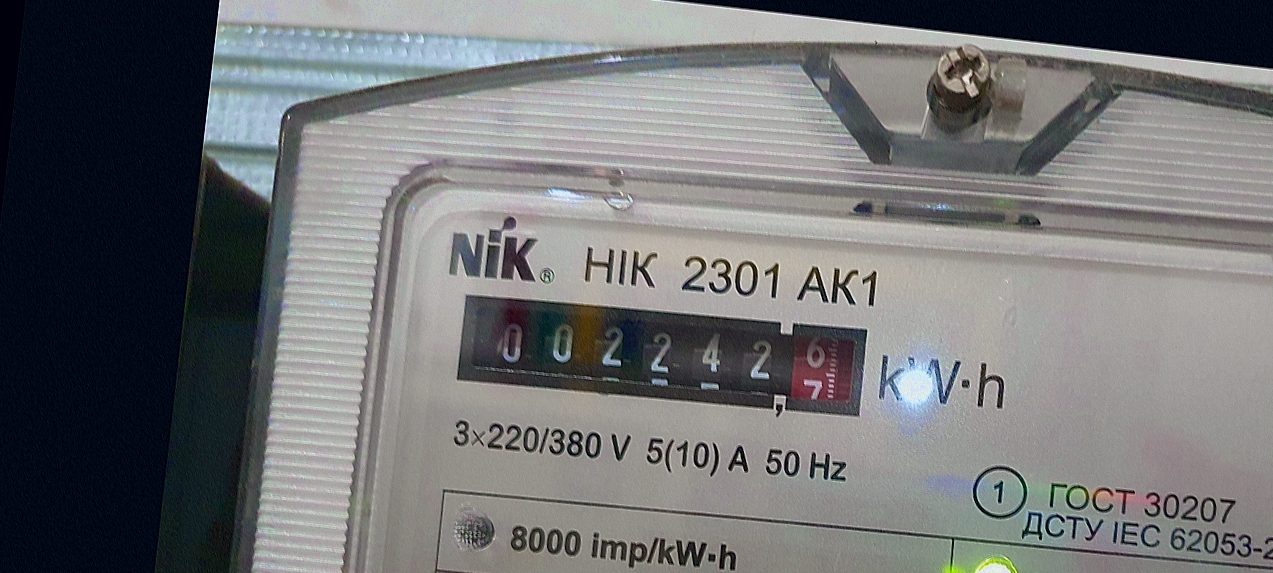0: (546, 318, 576, 363), (597, 323, 626, 367), (497, 318, 524, 365)
2: (744, 335, 774, 381), (646, 328, 674, 374)
4: (696, 328, 724, 374)
6: (801, 333, 828, 369)
7: (798, 375, 823, 400)
screen: (443, 271, 885, 441)
